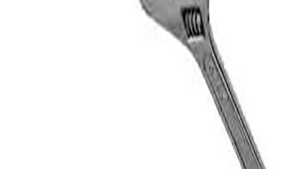wrench: (138, 1, 272, 169)
